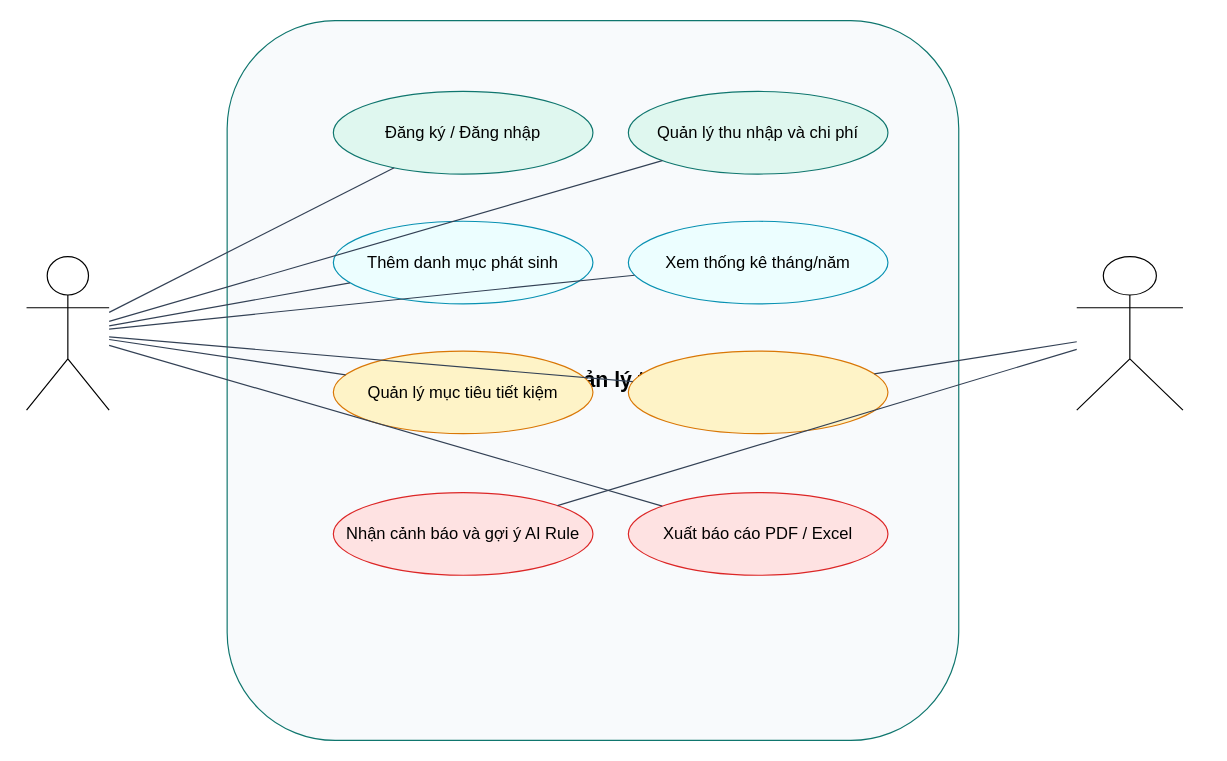
This 1227x761 diagram has some shape labels left out. The box of each missing label's shape, as (x1, y1, x2, y2) in pixels:
Hệ thống thông báo: (1076, 255, 1183, 410)
Người dùng: (25, 255, 109, 410)
Quản lý hóa đơn / lời nhắc: (627, 350, 888, 434)
